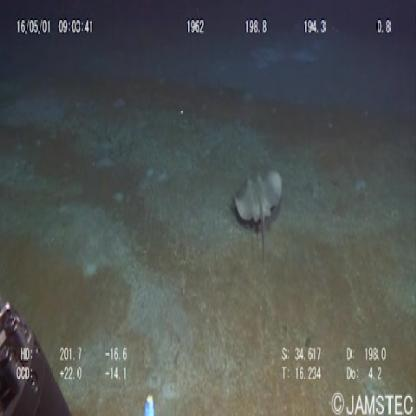Bio: (232, 166, 284, 266)
Rov: (1, 294, 72, 416)
